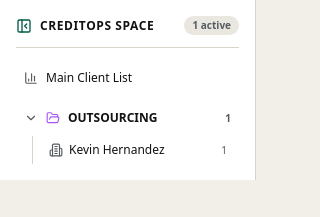
Test: the collapsed rail carries the same authorization as the tree › keeps the shared workspace for an agent, and withholds management tooling
This screenshot has width=320, height=217.
Click the button with aria-label "Collapse": click(85, 26) [16, 18, 154, 34]
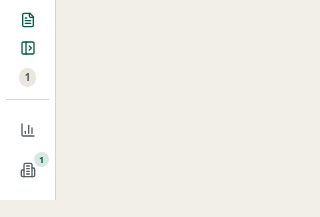
Check: the button named "Kevin Hernandez" is shown, box [6, 152, 49, 188]
Check: the button named "Main Client List" is shown, box [6, 112, 49, 148]
